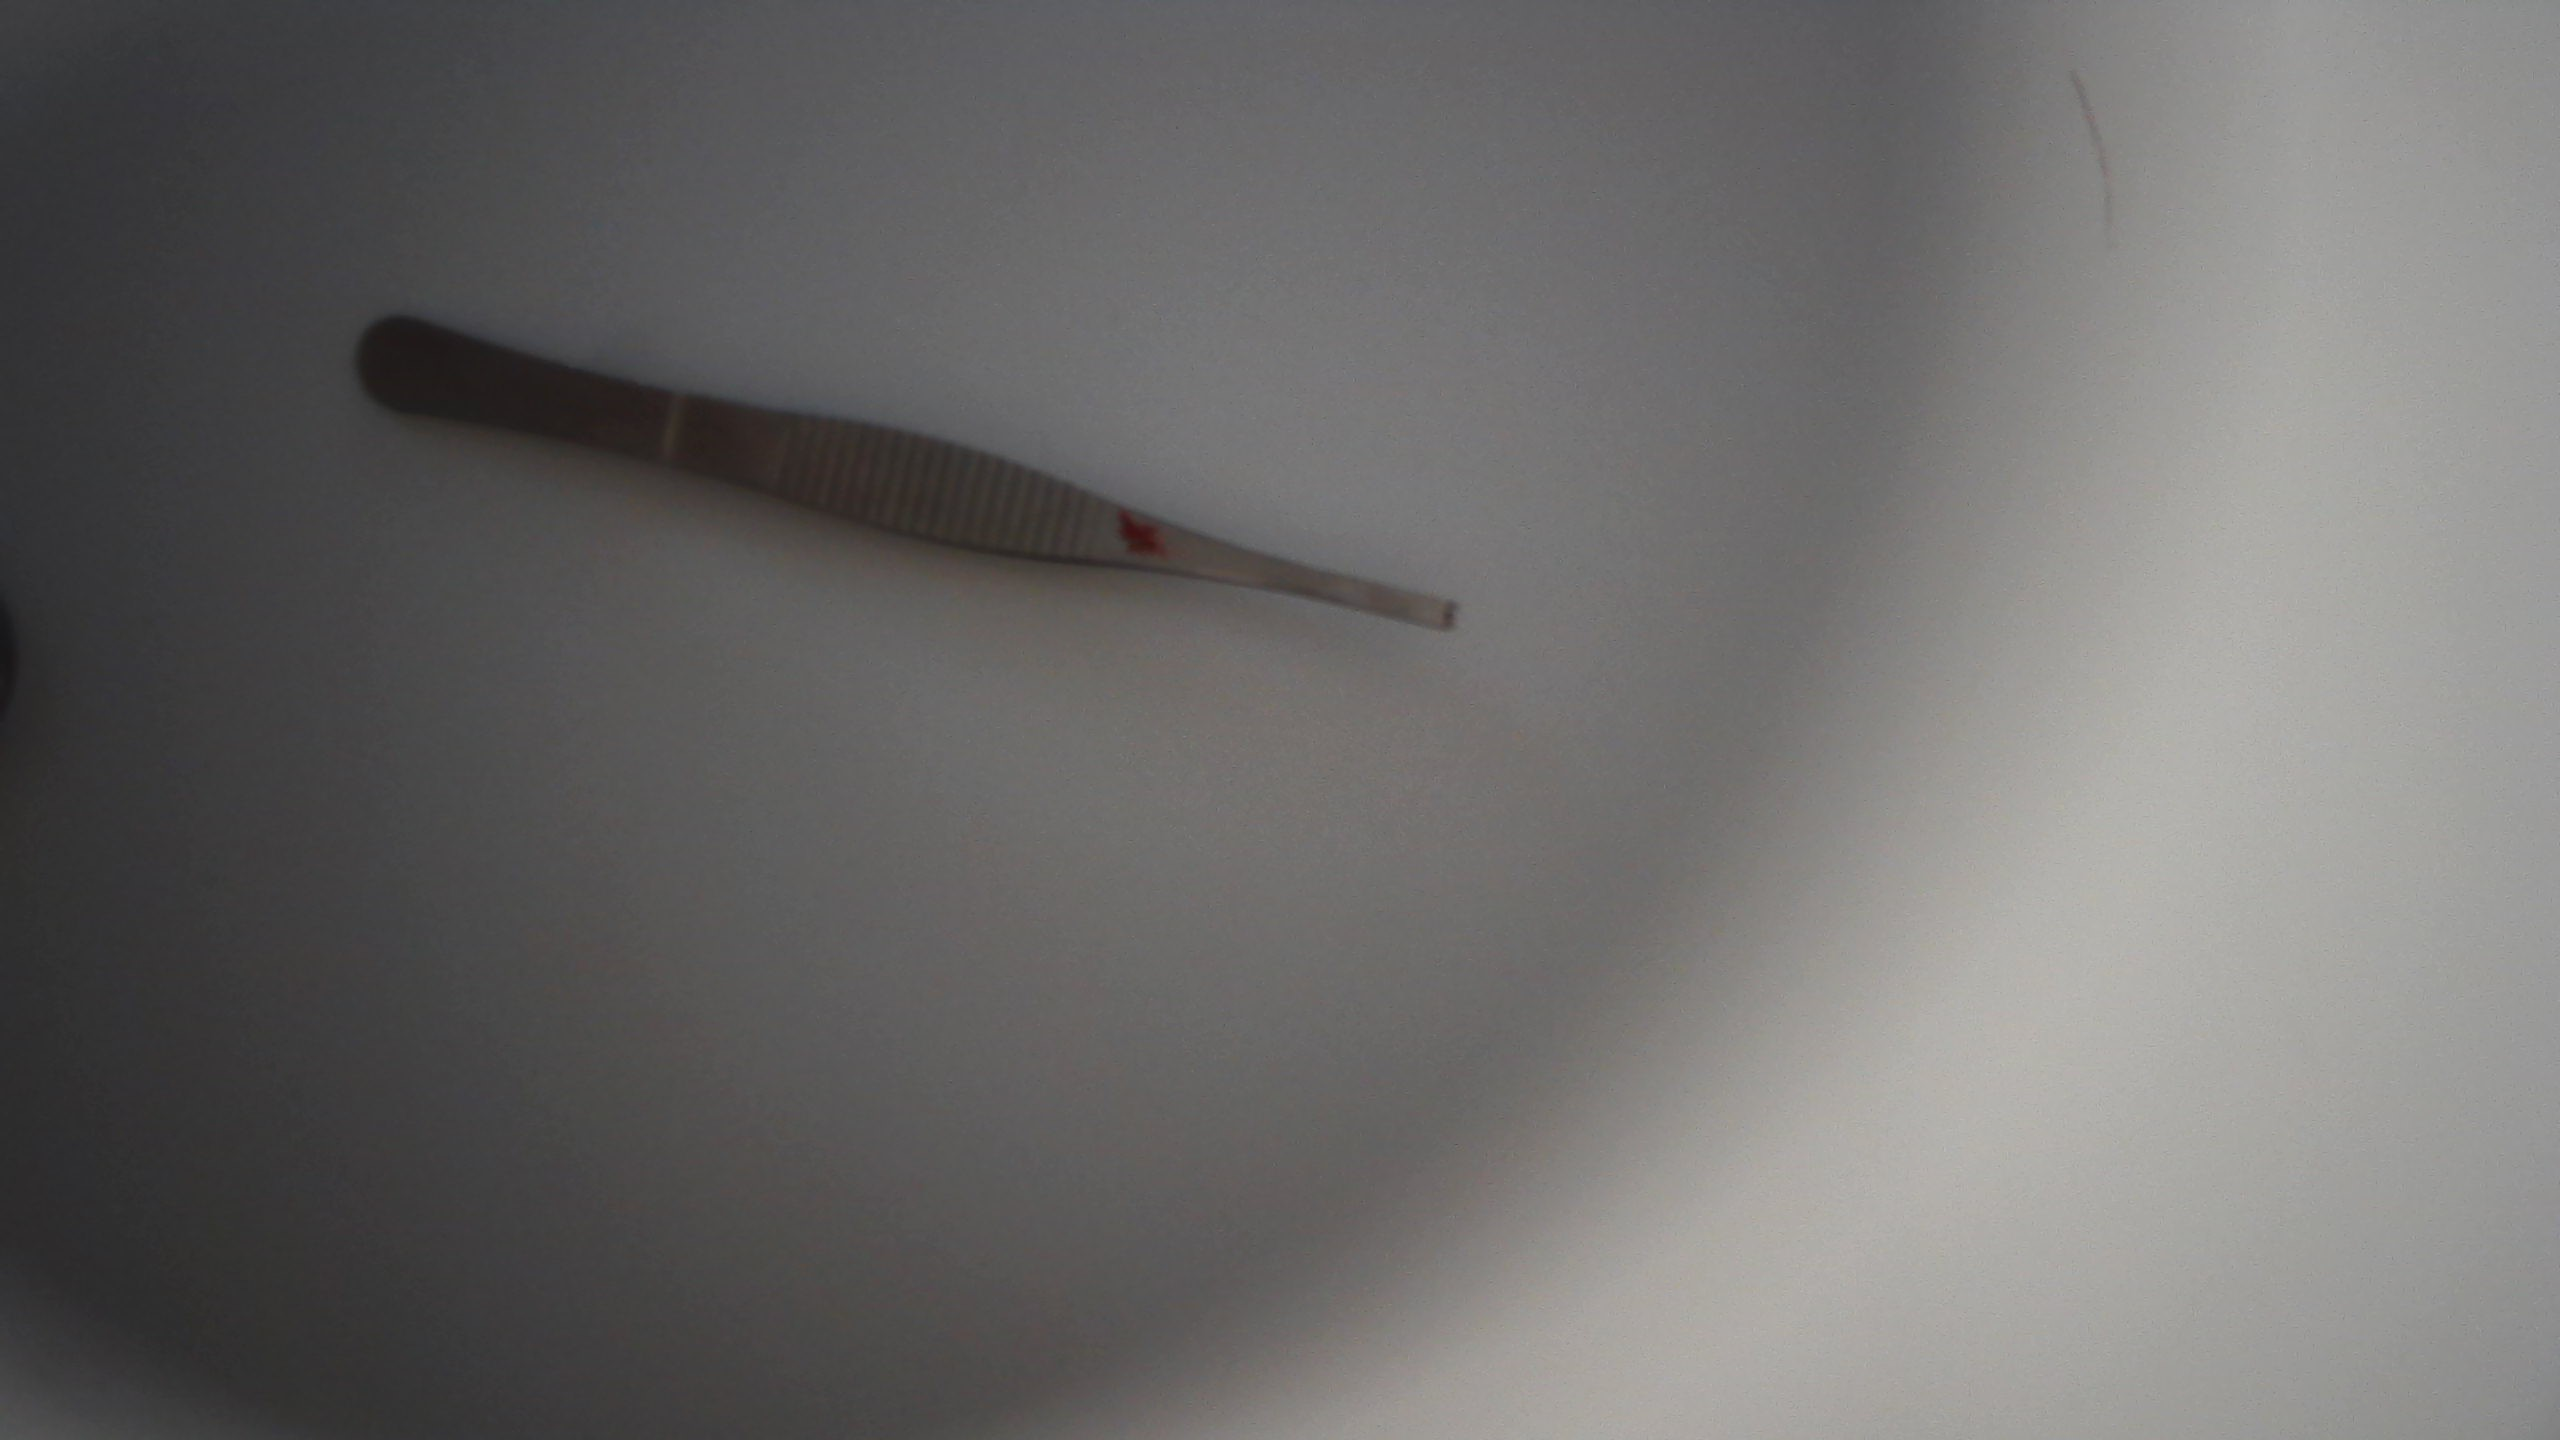Stain: (1113, 506, 1159, 556)
